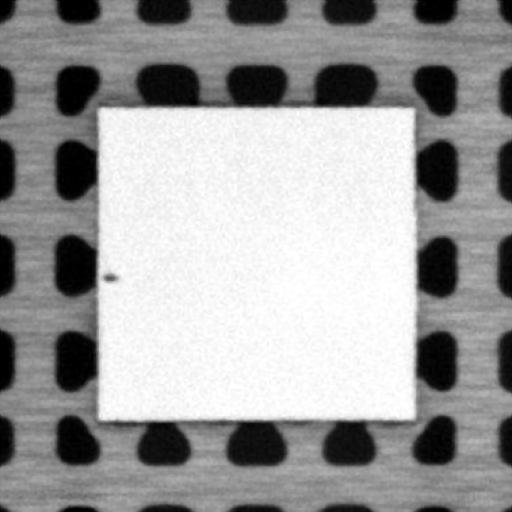DIE_INK: (100, 269, 118, 282)
